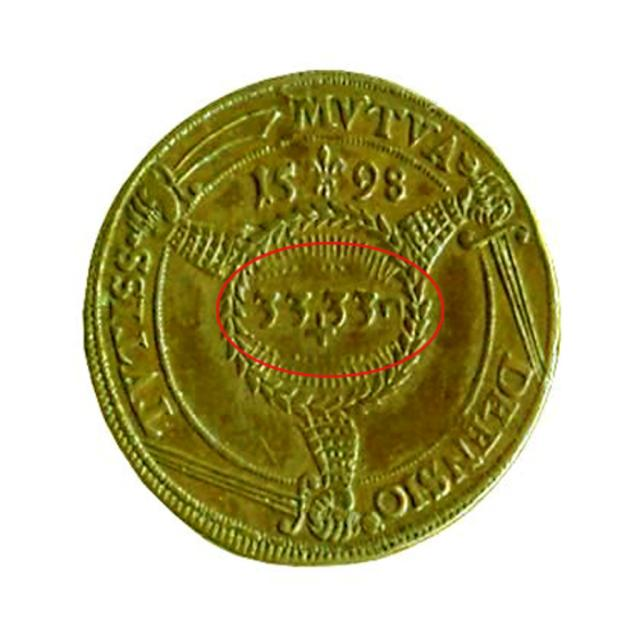Coin: (74, 70, 562, 564)
